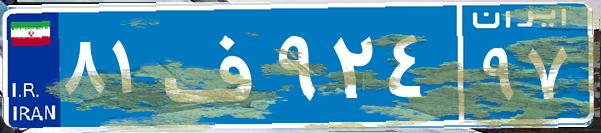1: (110, 28, 158, 105)
2: (330, 28, 385, 110)
4: (385, 28, 445, 110)
7: (525, 38, 570, 115)
8: (57, 26, 110, 107)
9: (273, 28, 330, 110), (475, 38, 525, 113)
ف: (158, 15, 273, 115)
